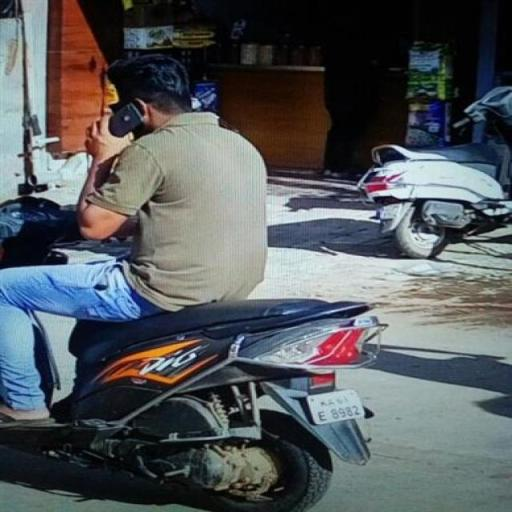using mobile: (69, 82, 155, 156)
